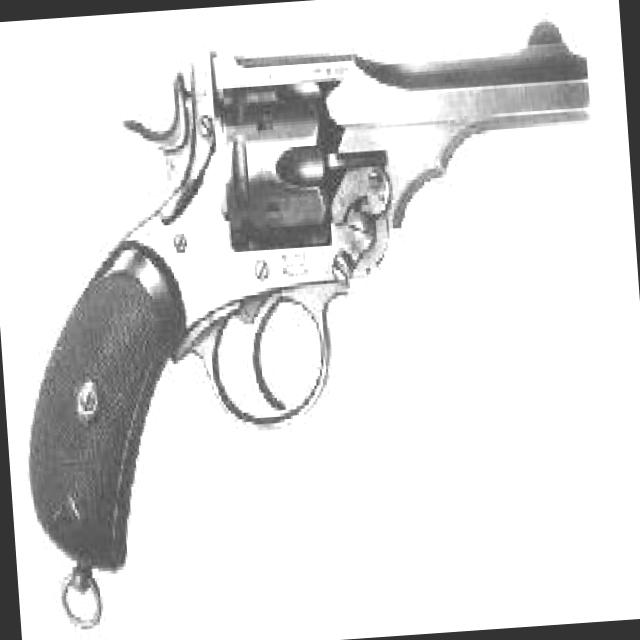handgun: (0, 13, 617, 564)
